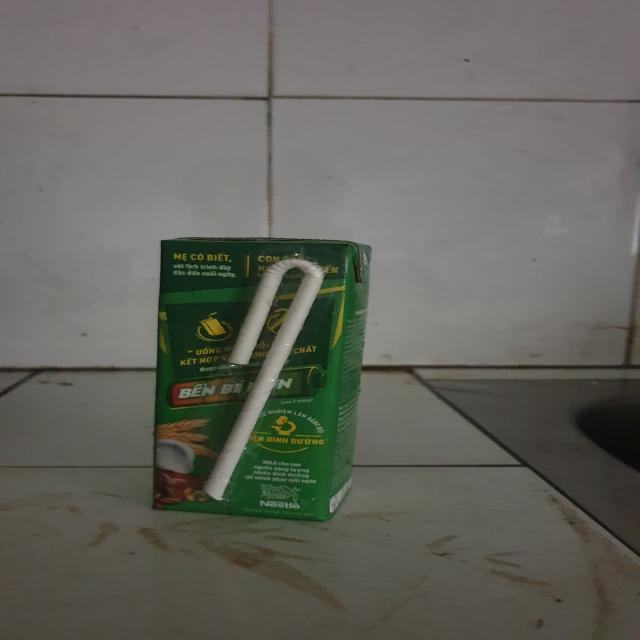Milo: (148, 233, 383, 528)
